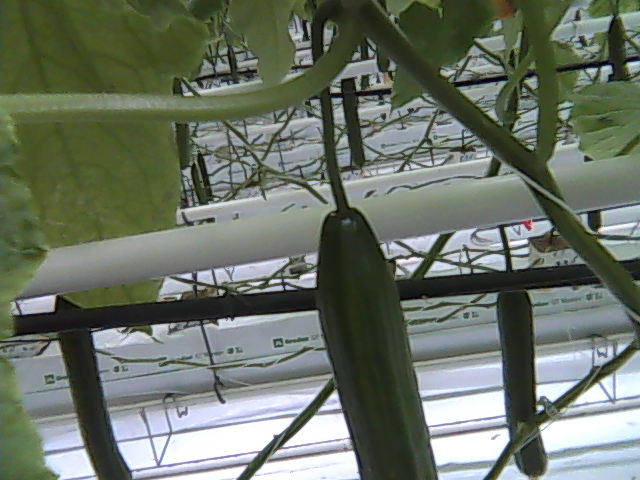concombre: (314, 193, 444, 480)
